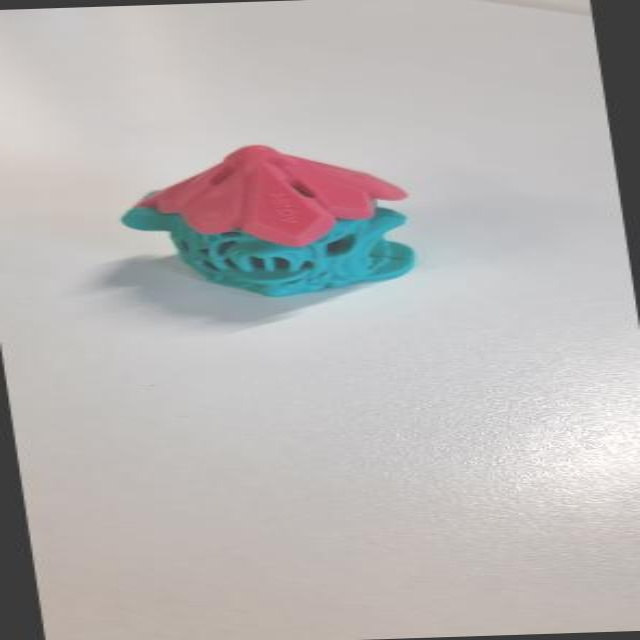House: (75, 120, 455, 351)
